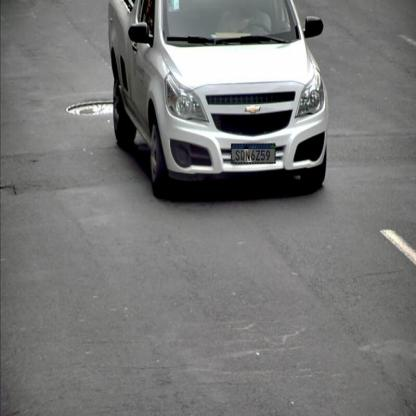PlacaM: (231, 144, 275, 164)
